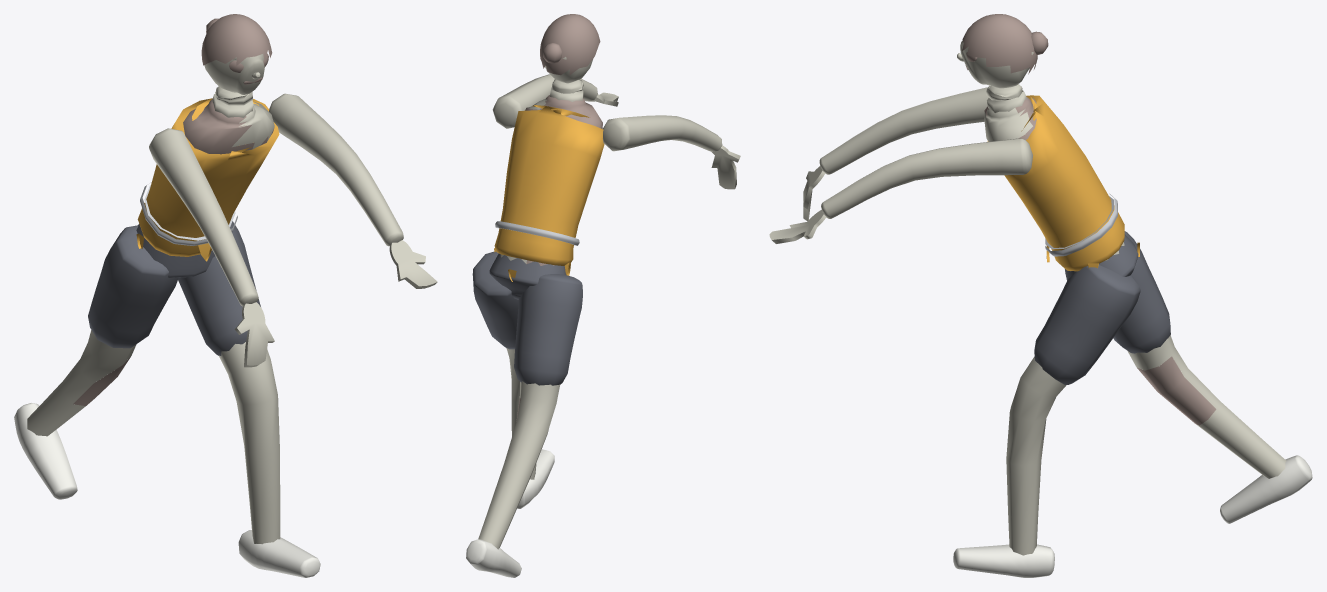
Rendered from undead-horde-and-infected-variants-walker-park-jogger-8306bdb0__11983.glb.
The picture shows the model from 3 angles, left to right: view 1: azimuth 30°, elevation 25°; view 2: azimuth 150°, elevation 25°; view 3: azimuth 270°, elevation 25°; orthographic projection. The views are drawn at different scales.
Visible parts, largest first — view 1: walker-park-jogger; view 2: walker-park-jogger; view 3: walker-park-jogger.
Part boxes in pixels (bbox=[...]): walker-park-jogger: bbox=[14, 14, 437, 577]; walker-park-jogger: bbox=[466, 14, 740, 577]; walker-park-jogger: bbox=[769, 14, 1312, 577].
Size of the model in its own units: 0.5567 by 1.6 by 1.46.
